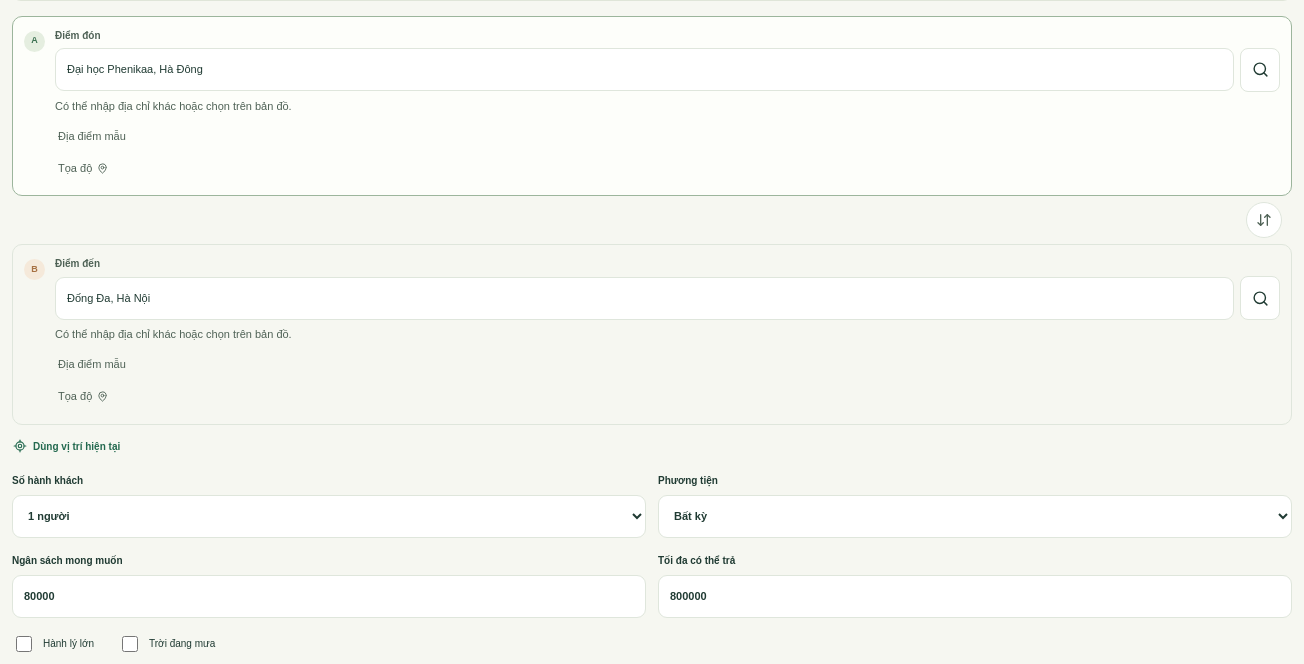
transparent booking choices › rejects an inverted budget before creating a request
Replace the text in the number field labelled "Ngân sách mong muốn" with "900000" at point(329, 596), box x1=12 y1=574 x2=646 y2=618
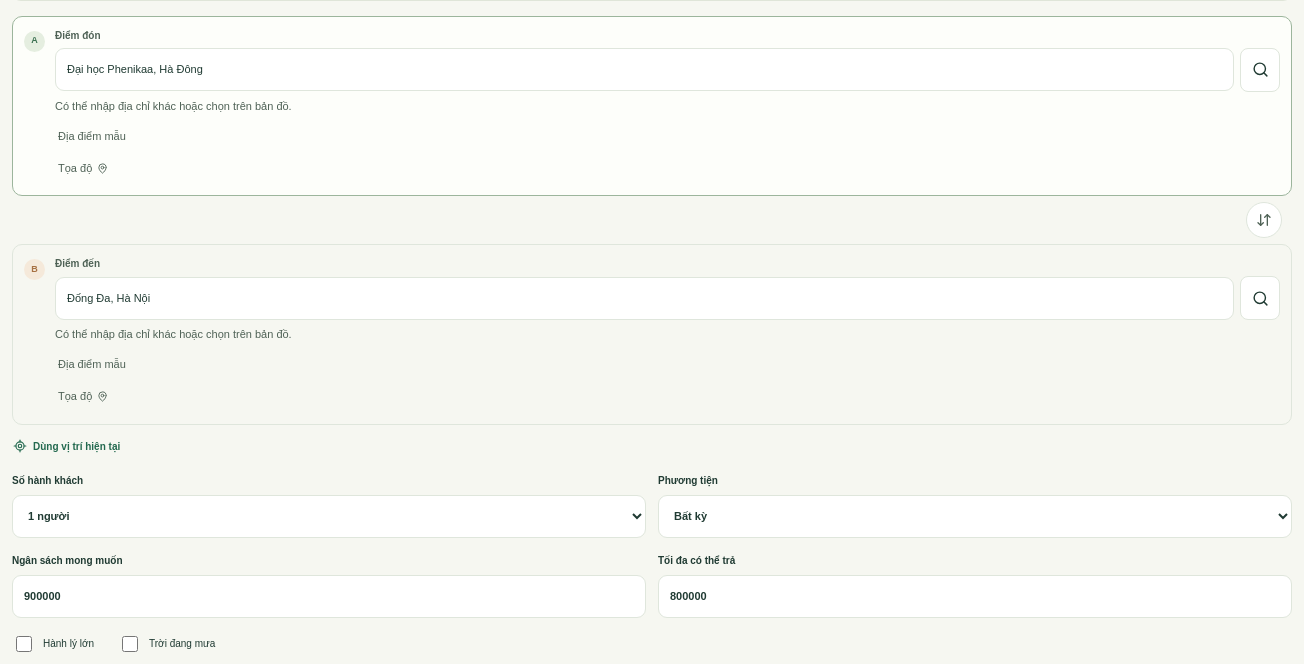
Replace the text in the number field labelled "Tối đa có thể trả" with "100000" at point(975, 596), box x1=658 y1=574 x2=1292 y2=618
(page scrolled)
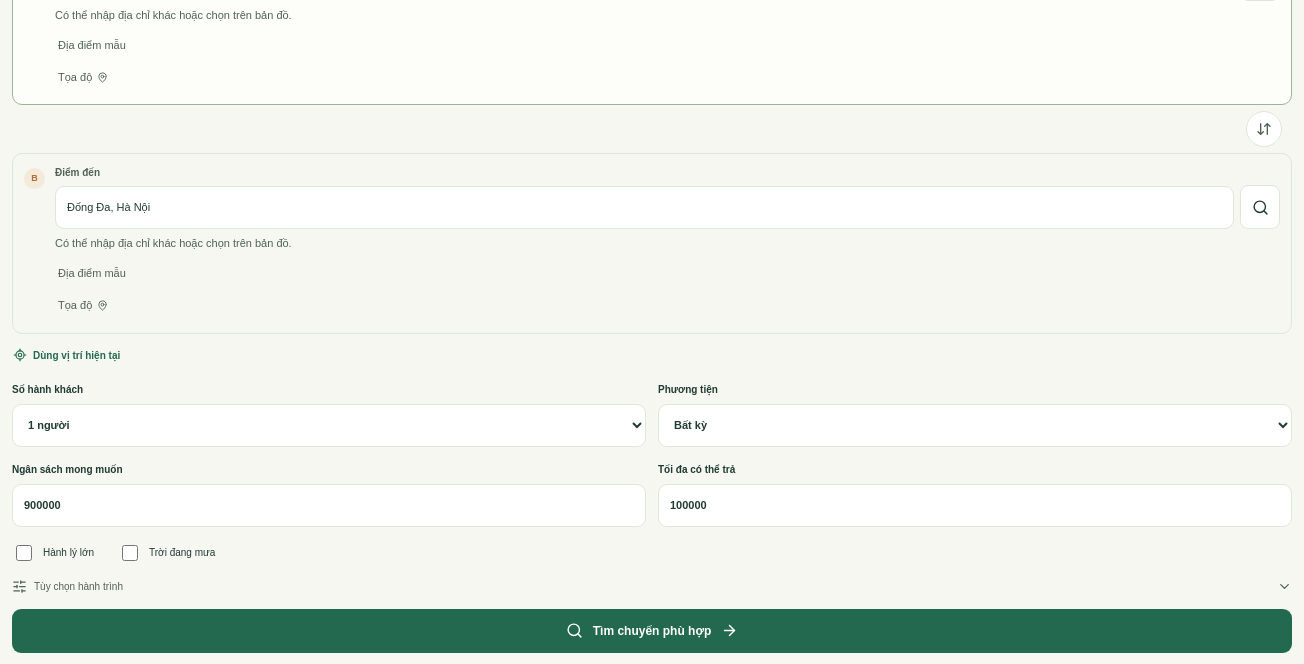
Click the button "Tìm chuyến phù hợp" at point(652, 630), box x1=12 y1=608 x2=1292 y2=652
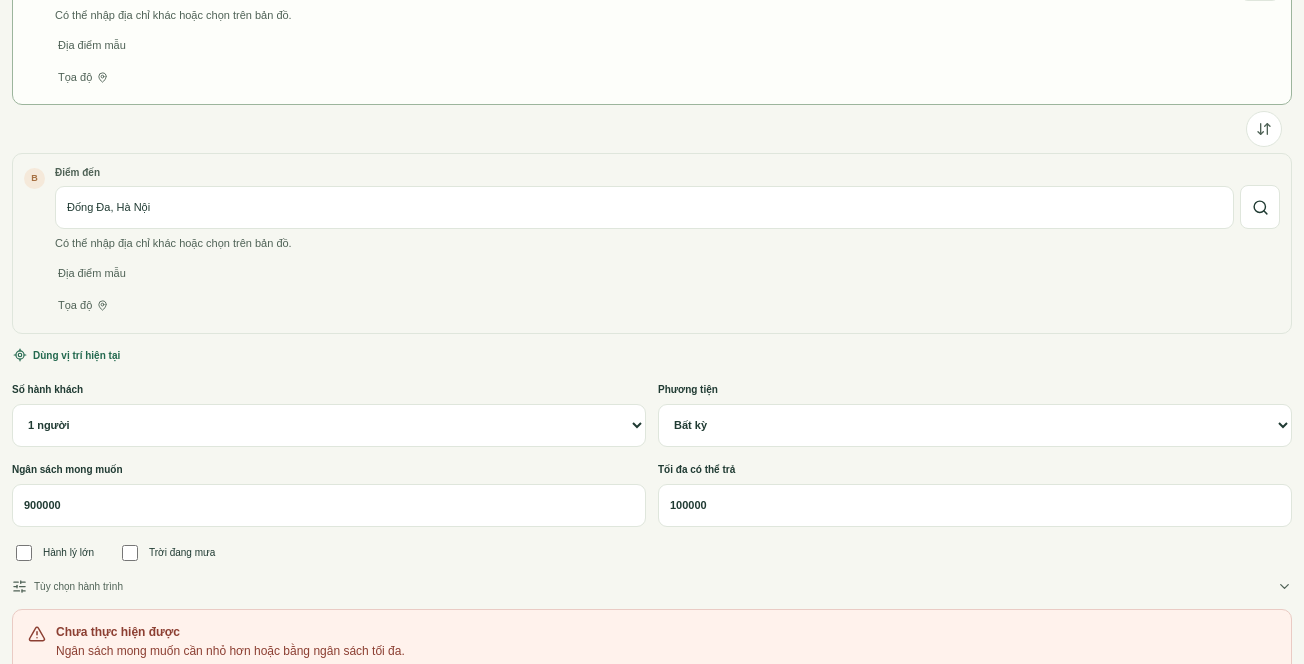
expect the message shows "Ngân sách mong muốn cần nhỏ hơn hoặc bằng ngân sách tối đa": met, box x1=56 y1=644 x2=405 y2=658
